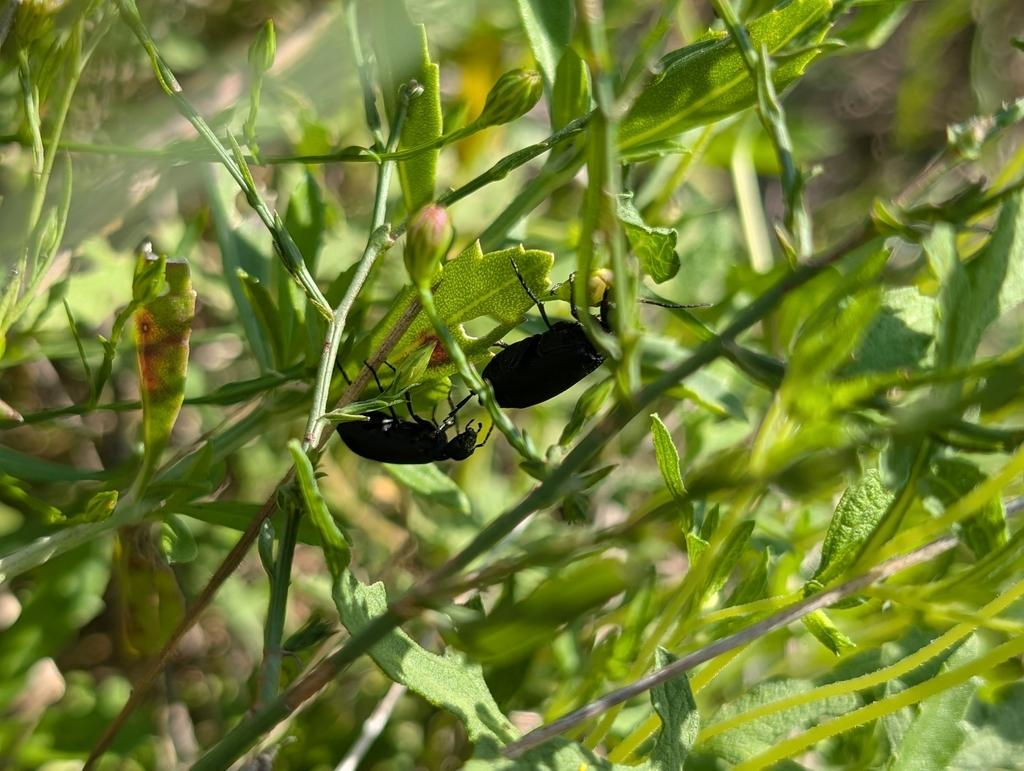blister_beetle: (451, 235, 673, 441), (295, 335, 497, 498)
